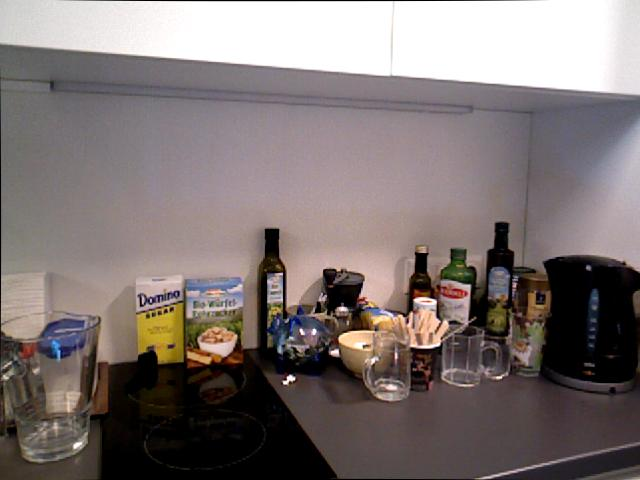bench: (256, 227, 287, 357), (437, 247, 476, 350), (484, 221, 514, 336), (407, 244, 436, 352)
bird: (337, 329, 395, 377), (196, 327, 237, 358)
handbag: (0, 309, 101, 463), (440, 325, 501, 387), (362, 329, 411, 403), (504, 306, 551, 381), (399, 324, 436, 398)
